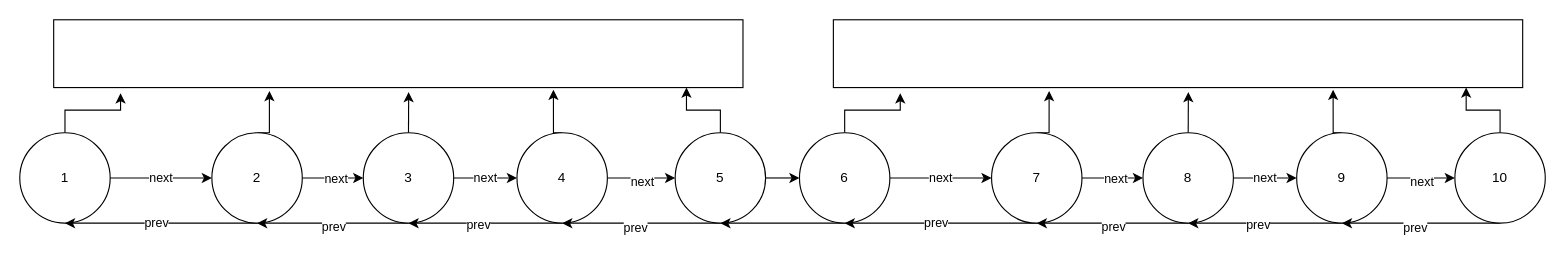
This 1565x254 diagram has some shape labels left out. The shapes that lost their labels are listed below. From the top down, each one's centre as x and y in pixels, then its label:
point (398, 53): bucket1
point (1177, 53): bucket
